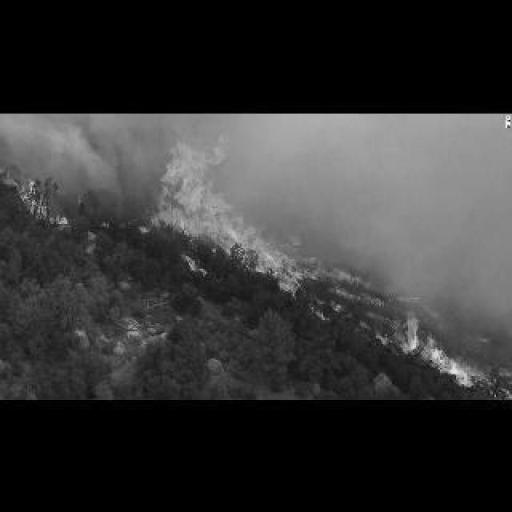smoke: (146, 133, 308, 288), (323, 267, 504, 386), (3, 162, 69, 222)
